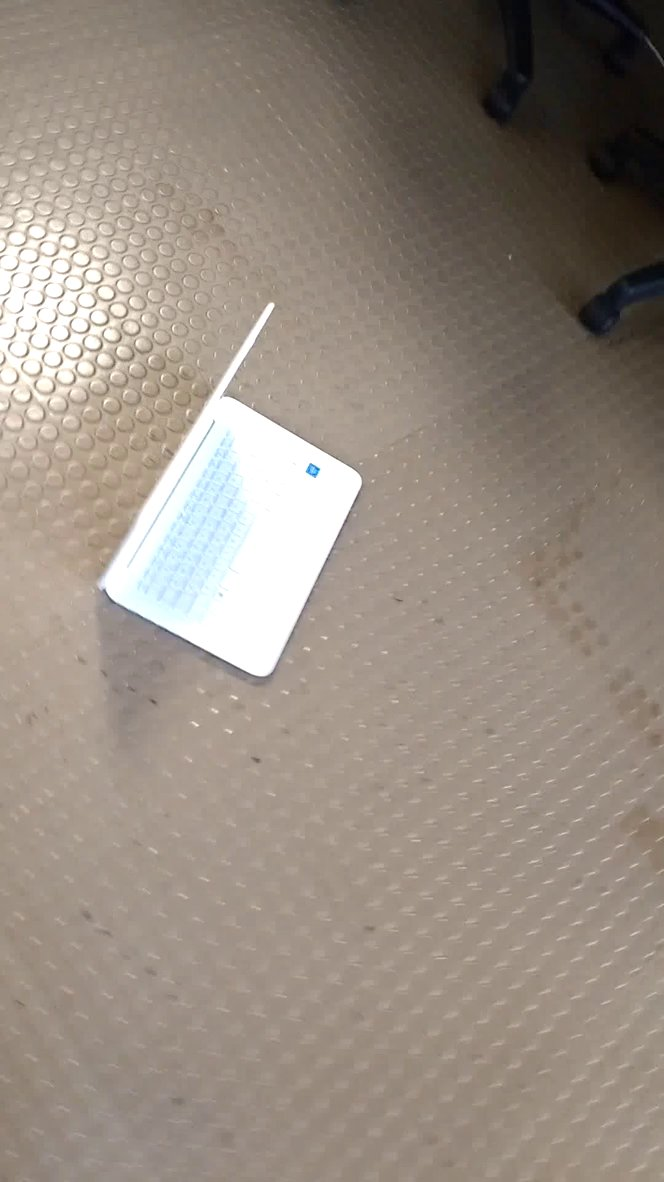laptop: (87, 283, 376, 691)
